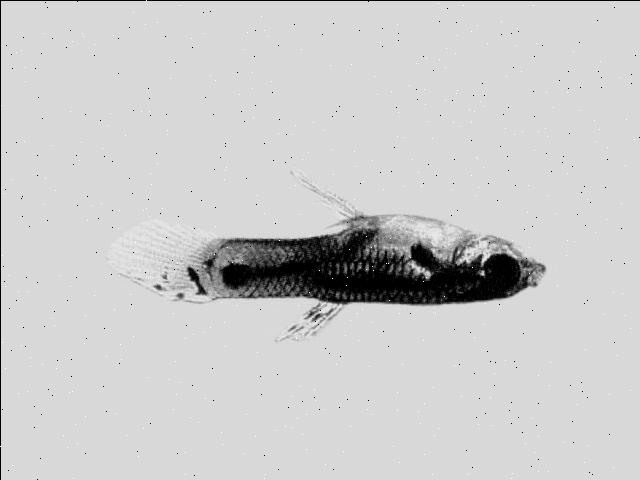Mulut: (496, 245, 566, 301)
Sirip Anal: (278, 152, 374, 236)
Sirip Ekor: (90, 205, 242, 313)
Sirip Punggung: (269, 279, 359, 359)
